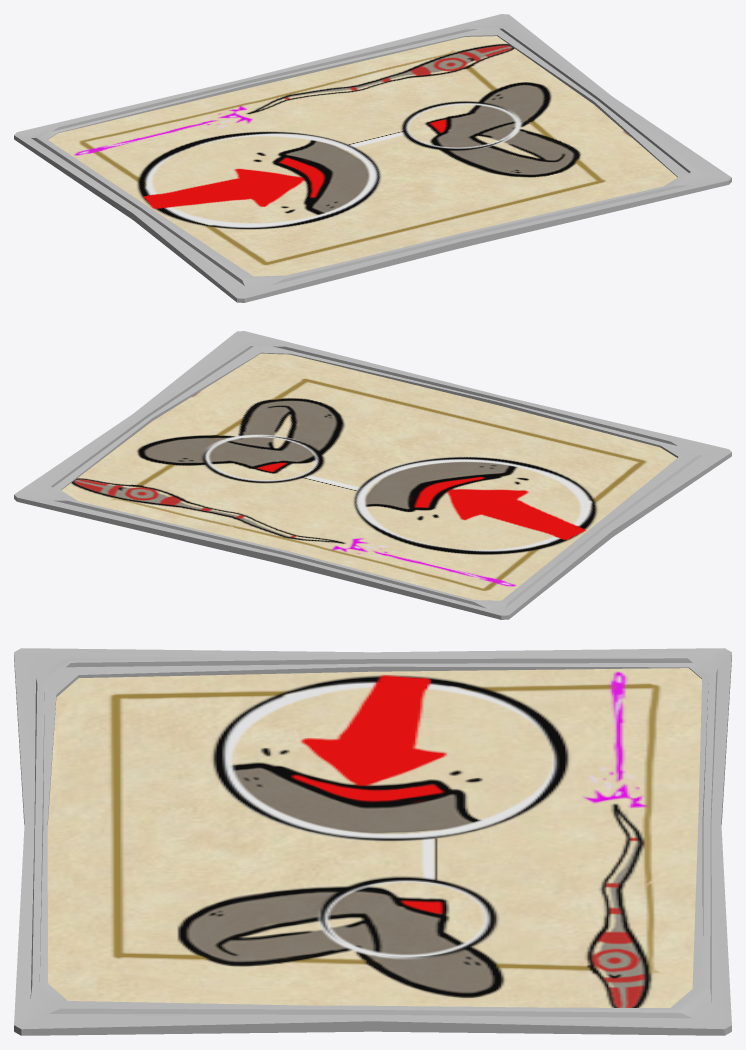
The model's file is InstructionsShootingWand.fbx.
3 views of the same model, one above another, from view 1: azimuth 30°, elevation 25°; view 2: azimuth 150°, elevation 25°; view 3: azimuth 270°, elevation 25° (orthographic). The views are drawn at different scales.
Visible parts, largest first — view 1: instructionsPaper, instructionsFrame; view 2: instructionsPaper, instructionsFrame; view 3: instructionsPaper, instructionsFrame.
Part boxes in pixels (box(x1,y1,x2,y2)): instructionsPaper: box(48, 36, 677, 276); instructionsFrame: box(14, 14, 731, 302); instructionsPaper: box(61, 353, 676, 600); instructionsFrame: box(14, 331, 731, 619); instructionsPaper: box(47, 668, 701, 1007); instructionsFrame: box(14, 648, 731, 1035).
Bounding box in the file's own units: 44.47 × 1.03 × 35.41.
